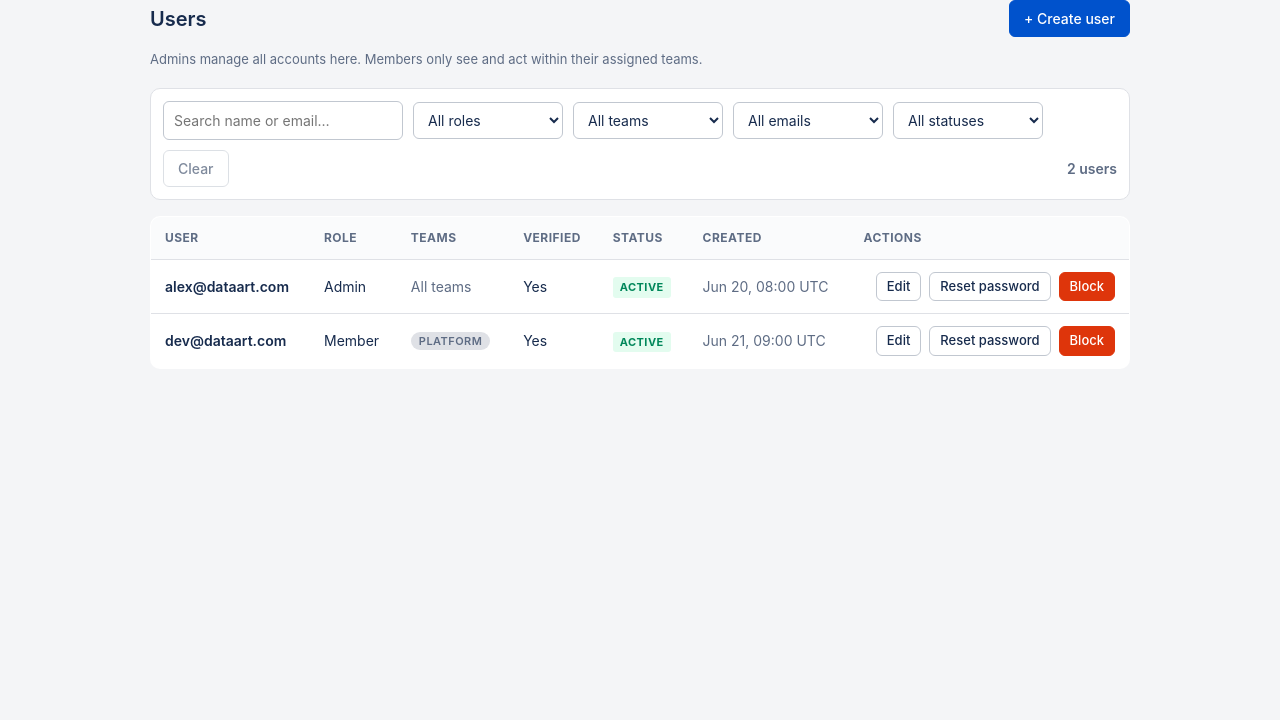
UsersPage › opens the create-user dialog and shows the generated password once on success
Click the button "+ Create user". click: x=1070, y=18
box: [1009,0,1130,37]
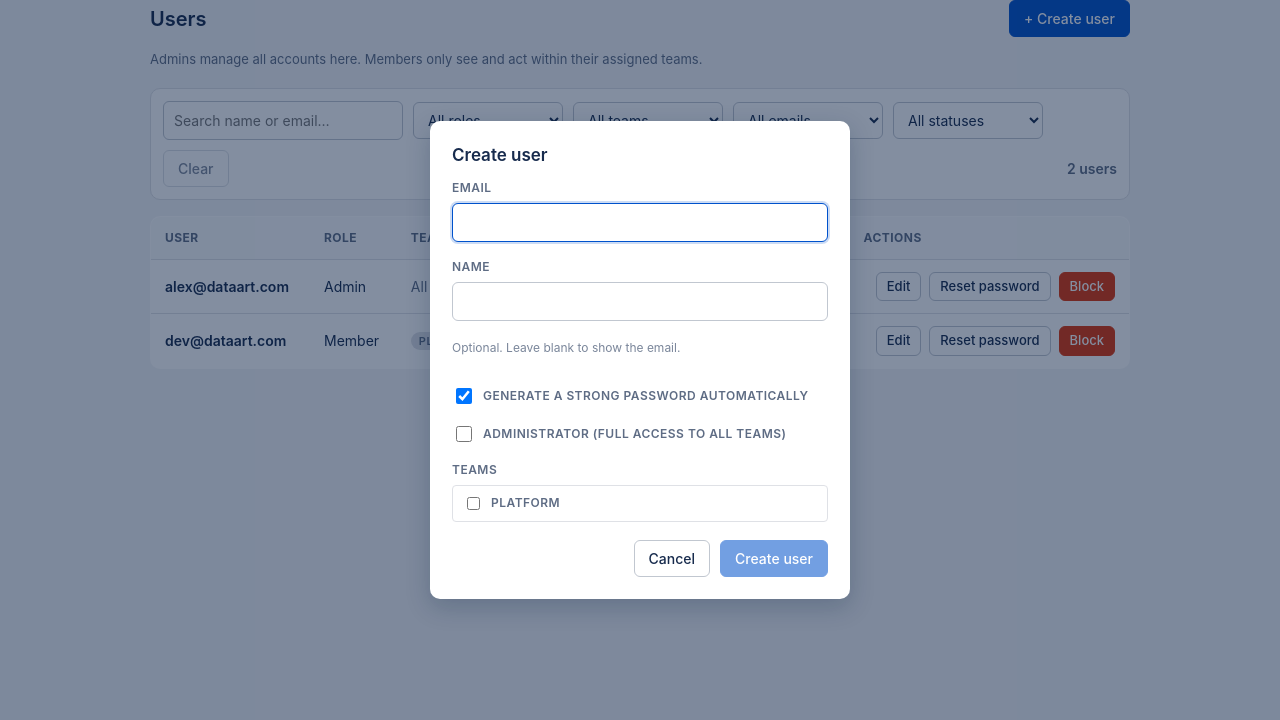
Type "newdev@dataart.com" into the field labelled "Email". click: x=640, y=222
box: [452,203,828,242]
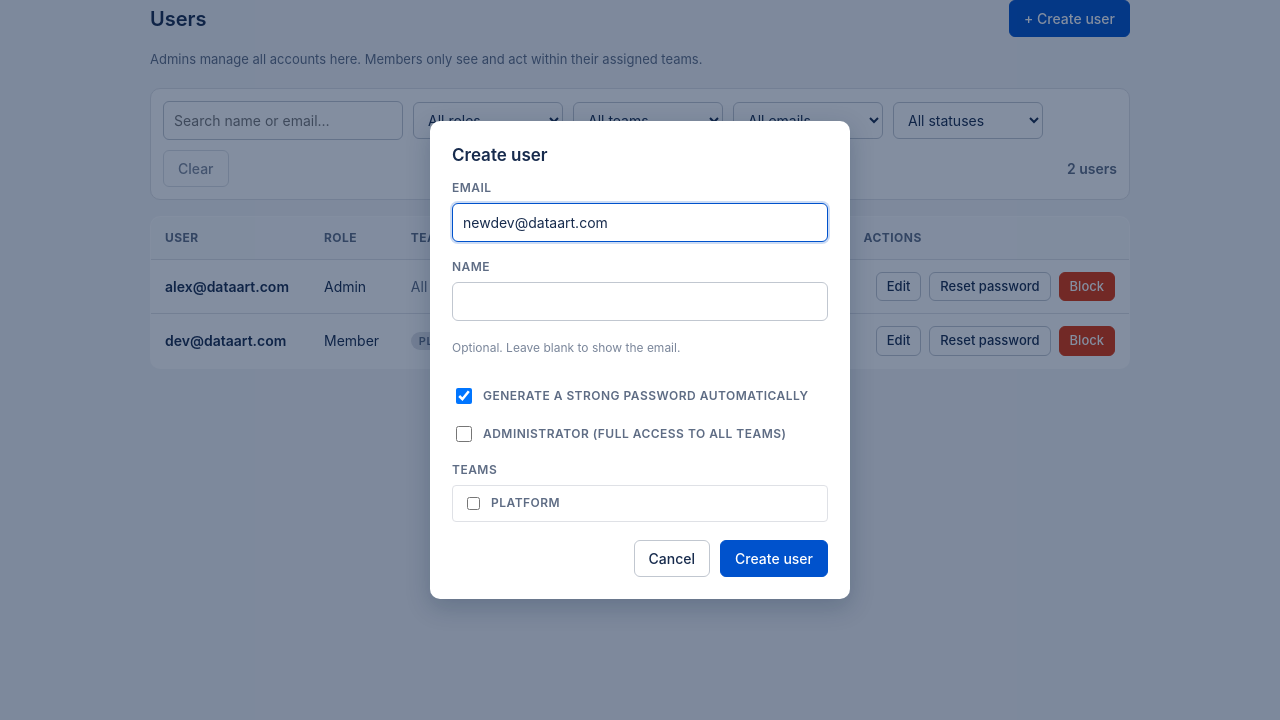
// Auto-generate is checked by default → password field hidden.
Click the button "Create user". click: x=774, y=558
box: [720,540,828,577]
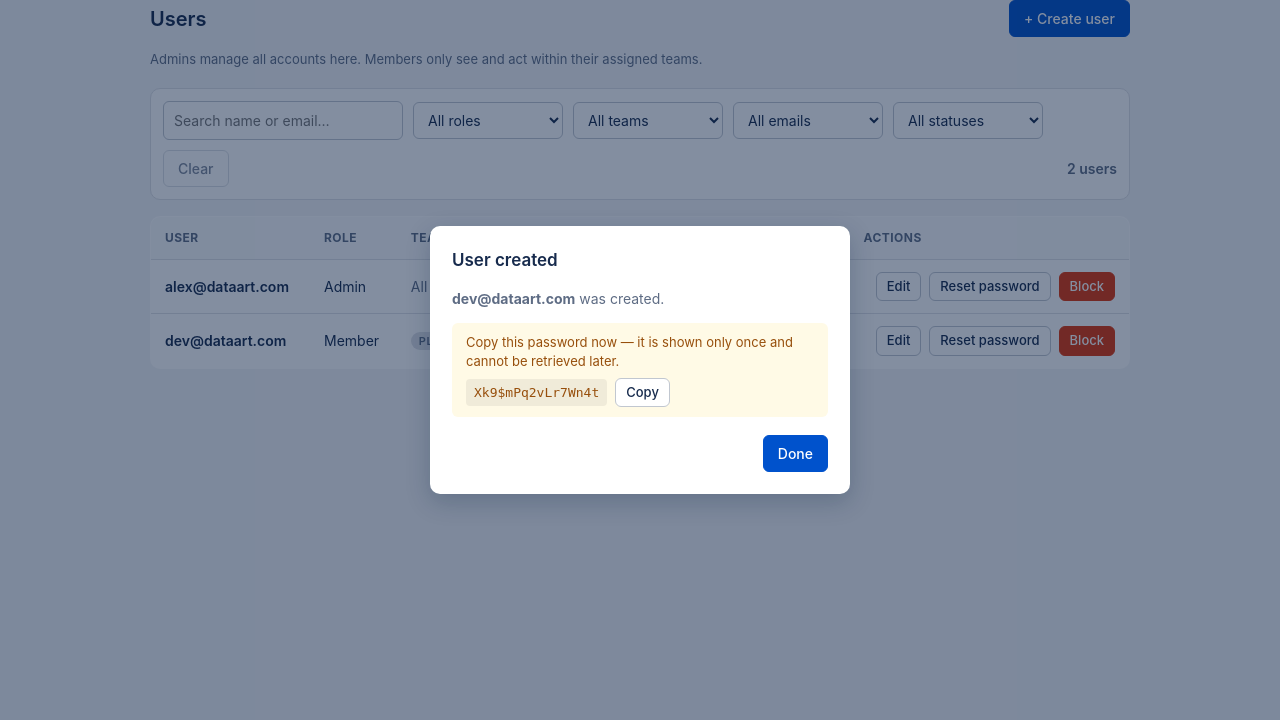
Check: the text with test id "generated-password" reads "Xk9$mPq2vLr7Wn4t", box [474,384,599,400]
